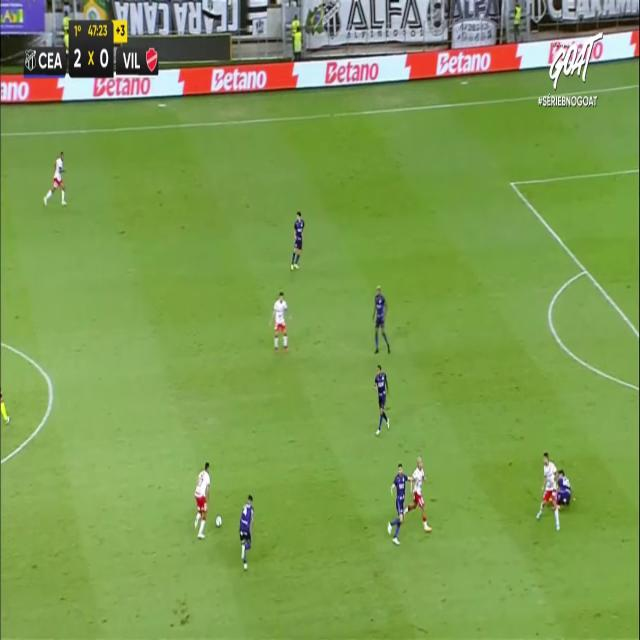ball: (216, 515, 222, 527)
player: (404, 455, 432, 532), (387, 462, 413, 544), (536, 451, 561, 530), (43, 150, 67, 206), (268, 291, 290, 352), (372, 284, 391, 354), (194, 461, 211, 539), (239, 493, 254, 570), (374, 364, 390, 435), (548, 472, 576, 506), (290, 211, 304, 269)
referee: (0, 389, 15, 435)
